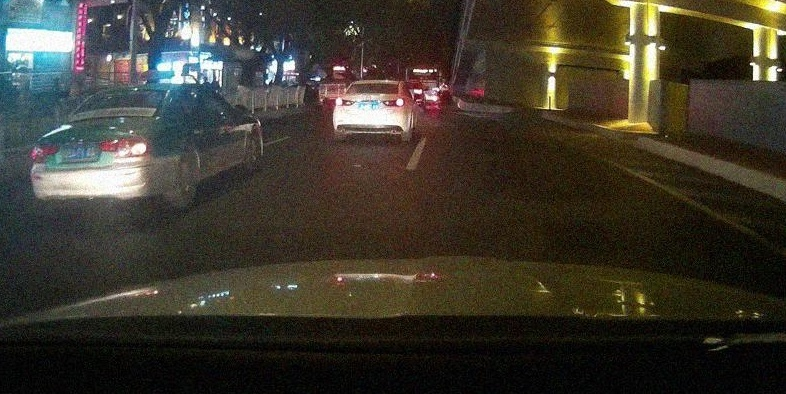L_light: (31, 143, 58, 162), (336, 98, 354, 106)
R_light: (99, 135, 150, 158), (383, 98, 403, 106)
T_light: (116, 91, 134, 94), (369, 83, 378, 85)
night-no: (332, 81, 405, 143)
night-right: (30, 85, 169, 215)
